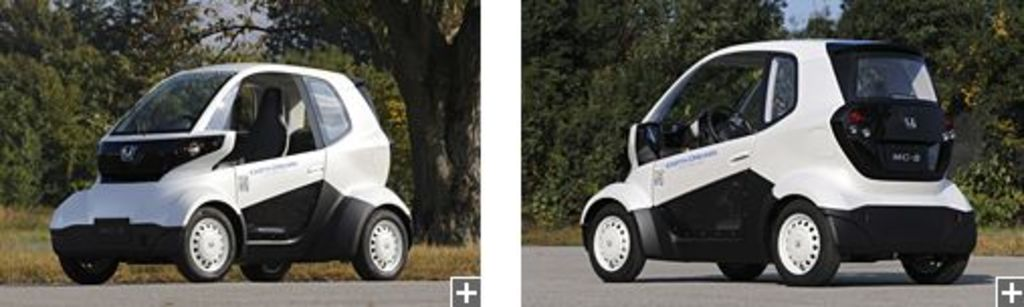cars: (575, 26, 981, 285), (44, 56, 419, 285)
